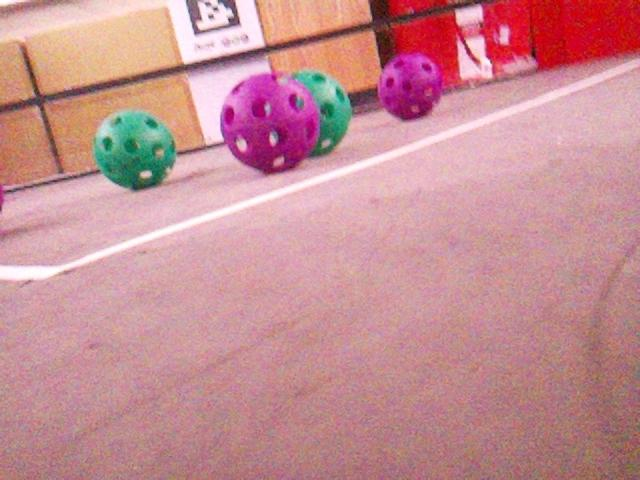Green: (92, 109, 176, 188), (294, 70, 353, 158), (0, 183, 4, 207)
Purple: (219, 73, 318, 172), (377, 52, 443, 120)
